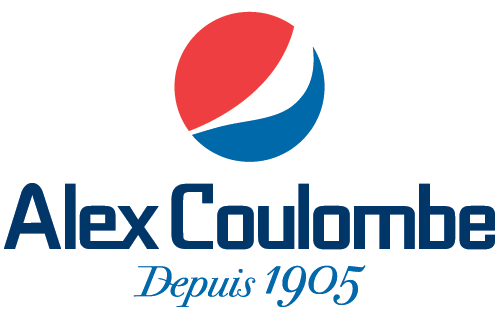pepsi: (170, 11, 323, 162), (170, 12, 323, 162), (172, 11, 323, 162)
